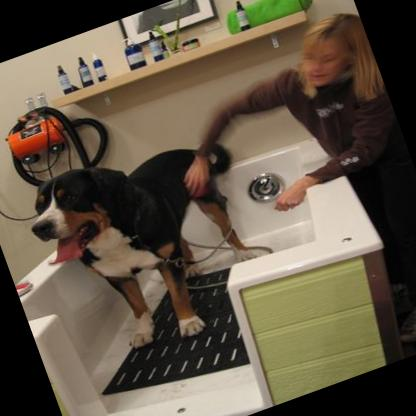Greater_Swiss_Mountain_dog: (10, 113, 287, 378)
